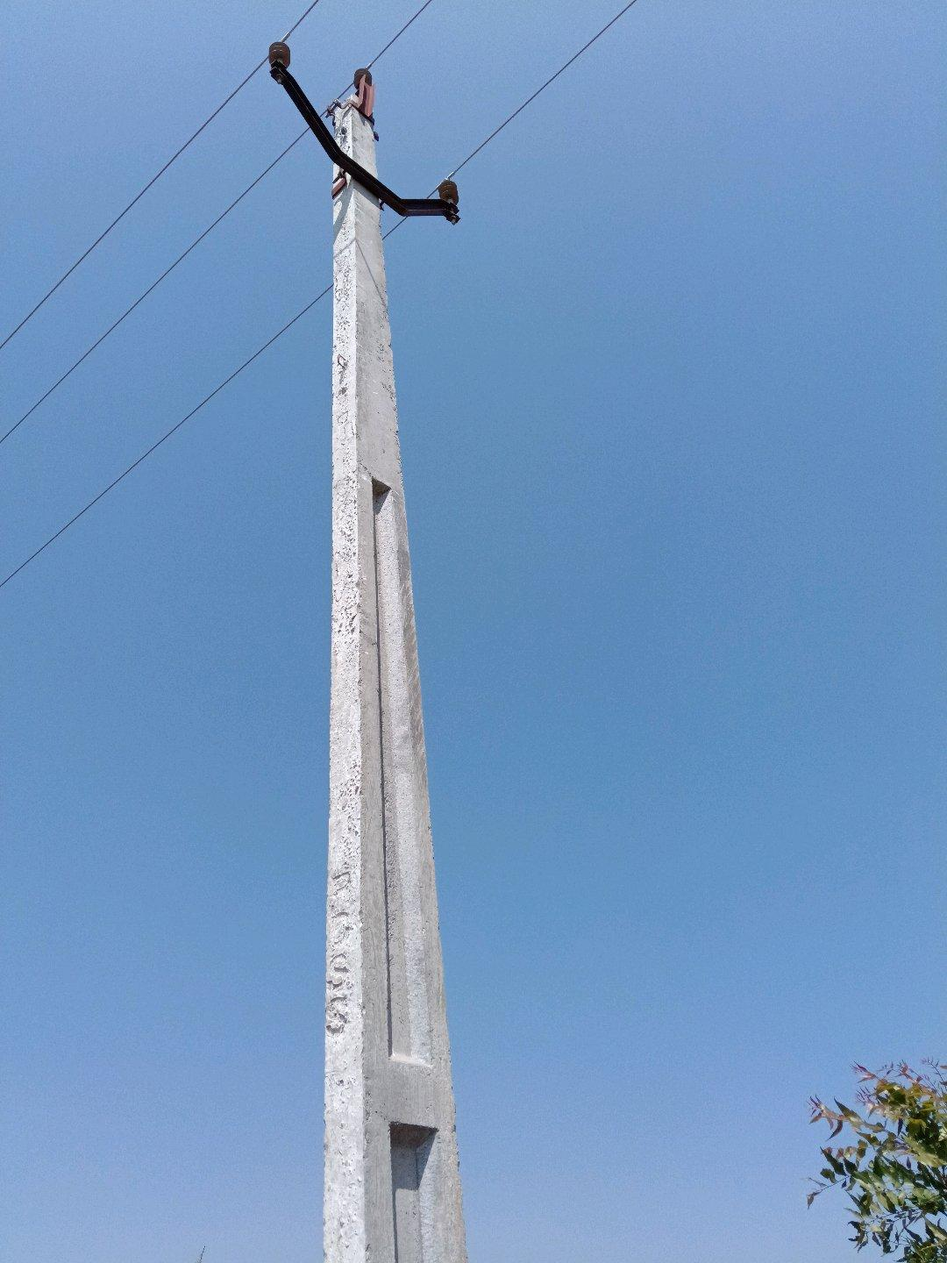{"0" "insulator", "1" "pole", "2" "crossarm", "3" "conductor", "4" "street_: (267, 42, 466, 1262), (411, 17, 413, 18)
